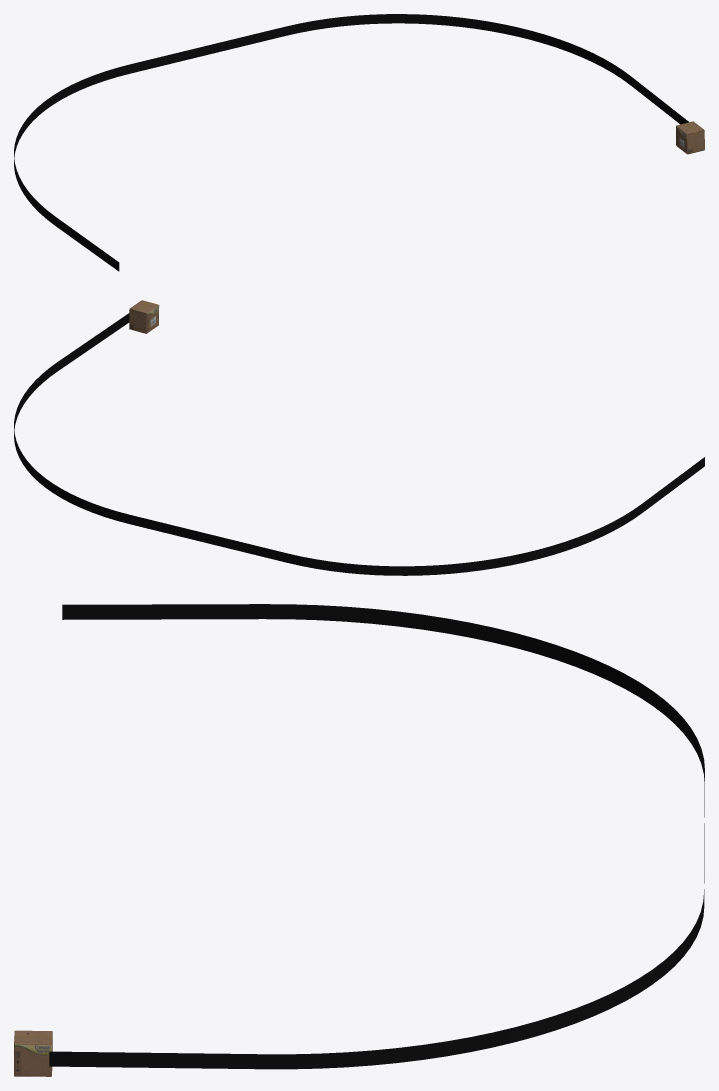
The picture shows the model from 3 angles, top to bottom: view 1: azimuth 30°, elevation 25°; view 2: azimuth 150°, elevation 25°; view 3: azimuth 270°, elevation 25°; orthographic projection. The views are drawn at different scales.
Parts seen in each view (by area): view 1: Line034, 290x170x190_027; view 2: Line034, 290x170x190_027; view 3: Line034, 290x170x190_027.
Part boxes in pixels (x1,y1,x2,y2): Line034: (14,14,688,271); 290x170x190_027: (676,121,704,154); Line034: (14,313,704,575); 290x170x190_027: (129,300,159,333); Line034: (49,604,704,1069); 290x170x190_027: (14,1030,52,1076).
Bounding box in the file's own units: 9302 × 321 × 6033.
2 materials, 1 textured.
